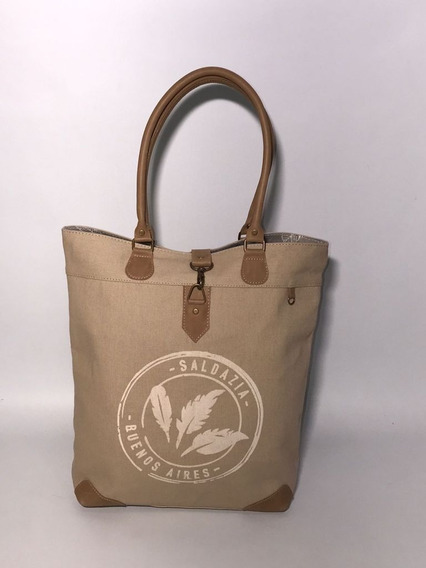cartera: (59, 63, 328, 517)
